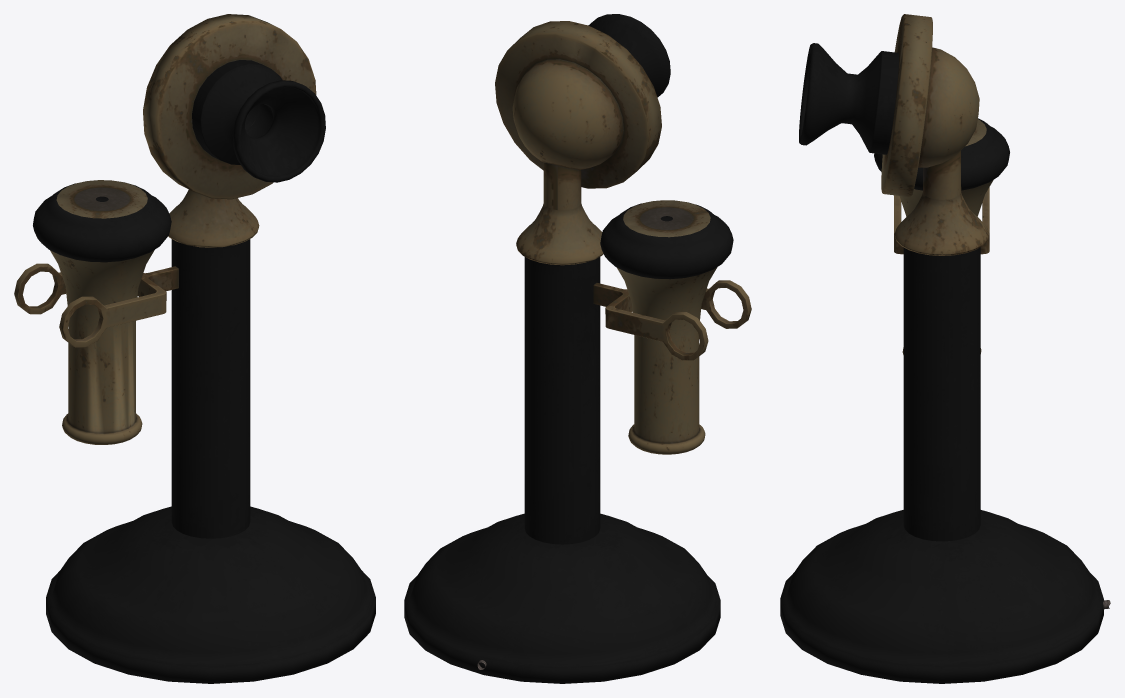
File: candlestickPhone.glb
3 views of the same model, side by side, from view 1: azimuth 30°, elevation 25°; view 2: azimuth 150°, elevation 25°; view 3: azimuth 270°, elevation 25° (orthographic). The views are drawn at different scales.
Visible parts, largest first — view 1: PhoneBody, Receiver, Hook; view 2: PhoneBody, Receiver, Hook; view 3: PhoneBody, Receiver, Hook.
Part boxes in pixels (x1,y1,x2,y2): PhoneBody: [46, 14, 375, 683]; Receiver: [33, 180, 171, 444]; Hook: [14, 263, 178, 347]; PhoneBody: [404, 14, 720, 683]; Receiver: [600, 200, 733, 454]; Hook: [593, 280, 751, 360]; PhoneBody: [780, 14, 1103, 683]; Receiver: [874, 118, 1009, 354]; Hook: [894, 187, 989, 254].
Size of what is drawn, in the model's own units: 0.2515 by 0.4601 by 0.2324.
1 material, 1 textured.
